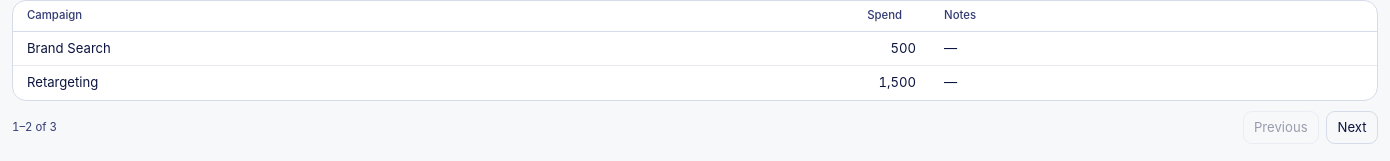
DataTable › names the range of rows on screen, not the page number
Expected: the text "1–2 of 3" is shown, [12,120,57,135]
Click the button "Next". click: (1352, 127)
box: [1326,111,1378,144]
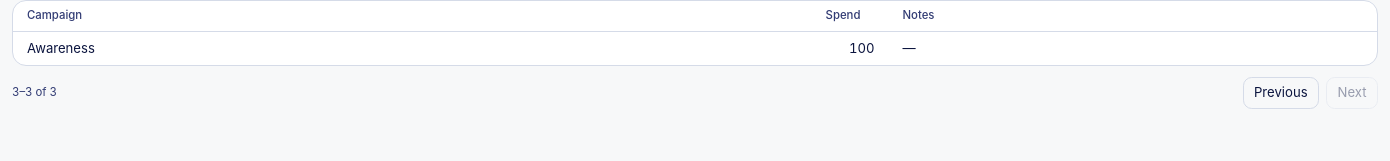
Expected: the text "3–3 of 3" is shown, [12,85,57,101]
